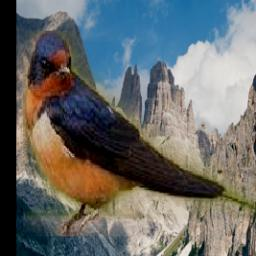Swallow: (24, 32, 256, 237)
